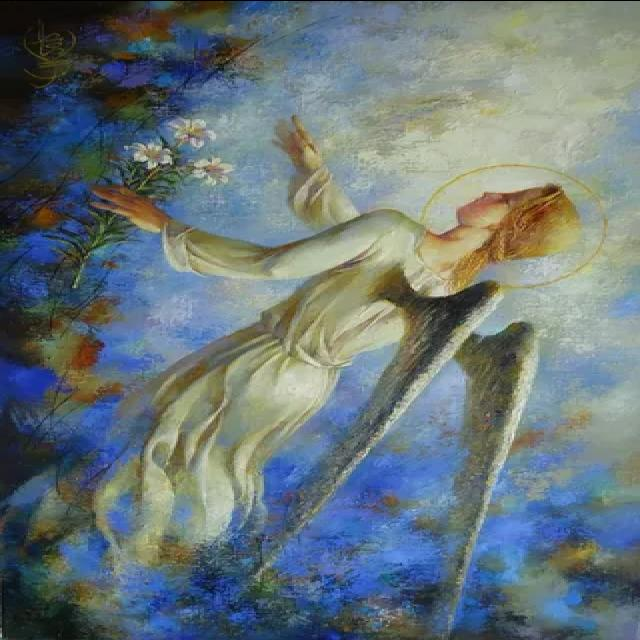angel: (46, 117, 596, 630)
